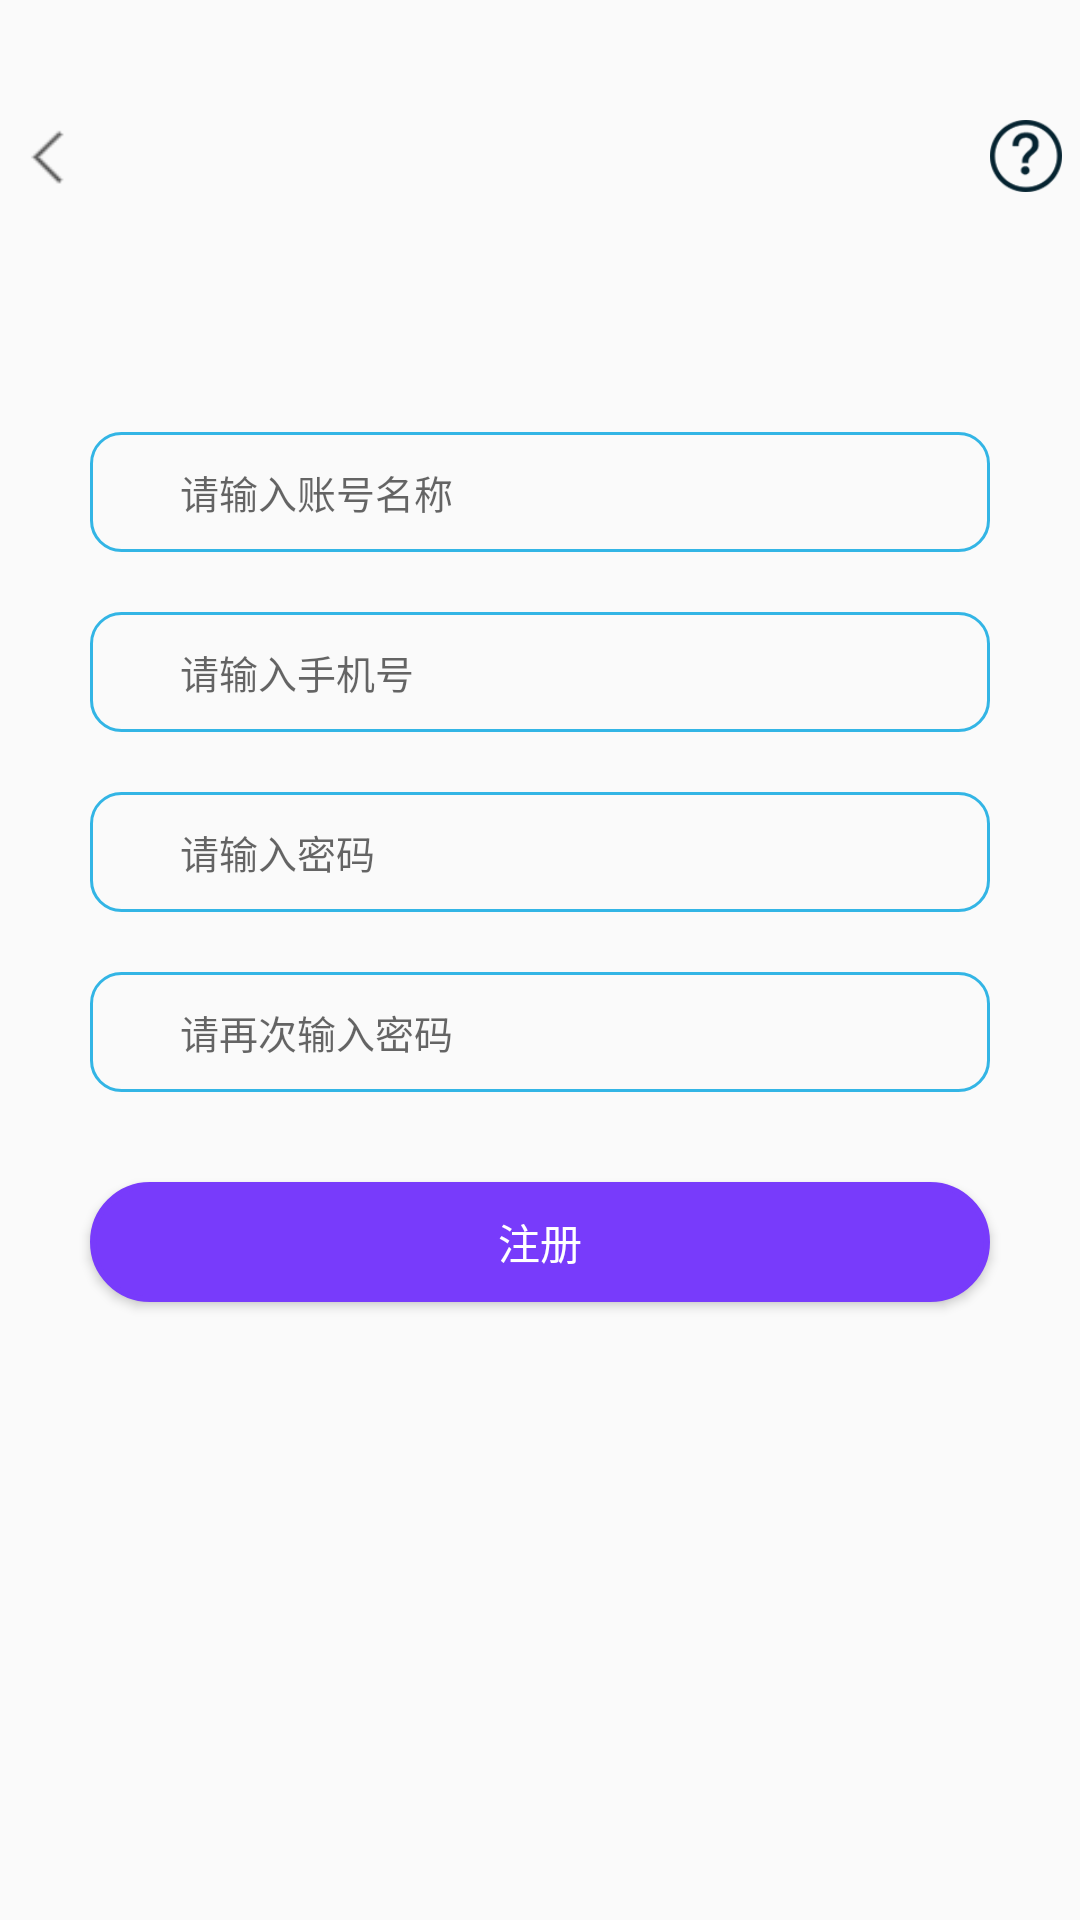

Named icons in this screenshot (1080 x 1920) and their bounding boxes, (x1, y1, x2, y2):
back: (32, 131, 63, 184)
help: (990, 120, 1062, 192)
